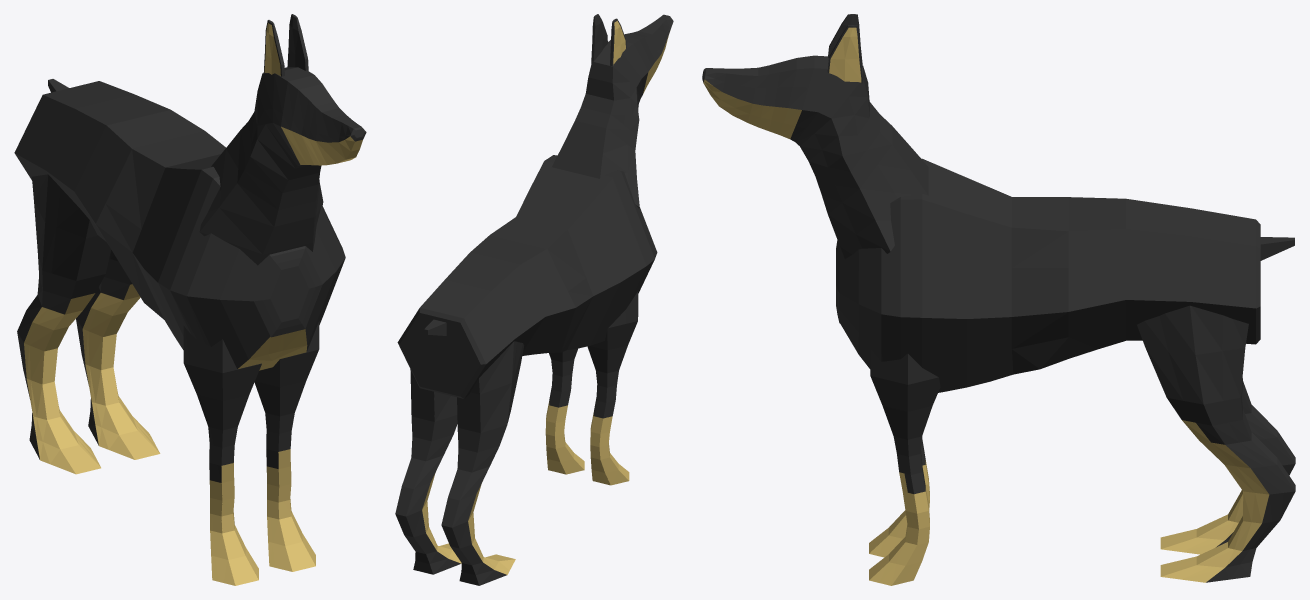
Rendered from doberman.glb.
3 views of the same model, side by side, from view 1: azimuth 30°, elevation 25°; view 2: azimuth 150°, elevation 25°; view 3: azimuth 270°, elevation 25° (orthographic). The views are drawn at different scales.
Parts seen in each view (by area): view 1: Forro.4, Forro.4_1; view 2: Forro.4, Forro.4_1; view 3: Forro.4, Forro.4_1.
Boxes of the visible parts, left/top/right/bottom form: Forro.4: left=14, top=14, right=366, bottom=585; Forro.4_1: left=15, top=18, right=364, bottom=585; Forro.4: left=395, top=14, right=667, bottom=585; Forro.4_1: left=395, top=15, right=673, bottom=585; Forro.4: left=702, top=15, right=1295, bottom=585; Forro.4_1: left=702, top=14, right=1295, bottom=585.
Size of the model in its own units: 212 by 656 by 652.
